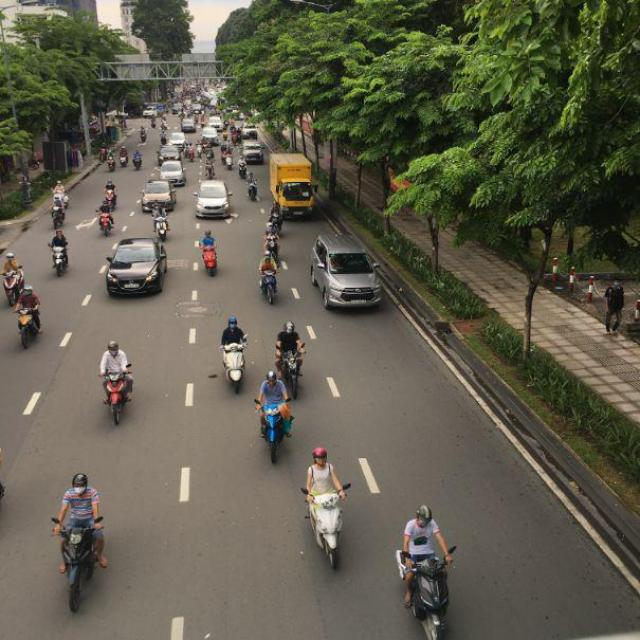car: (310, 235, 383, 312), (103, 238, 168, 298), (194, 179, 233, 221), (142, 182, 176, 214), (159, 160, 187, 185), (242, 142, 268, 166), (158, 148, 179, 164)
motorcycle: (56, 515, 107, 614), (403, 546, 456, 640), (305, 493, 345, 573), (260, 401, 296, 464), (103, 372, 135, 427), (276, 346, 304, 398), (223, 344, 247, 396), (16, 309, 43, 350), (259, 262, 279, 305)
truck: (269, 152, 317, 219)
